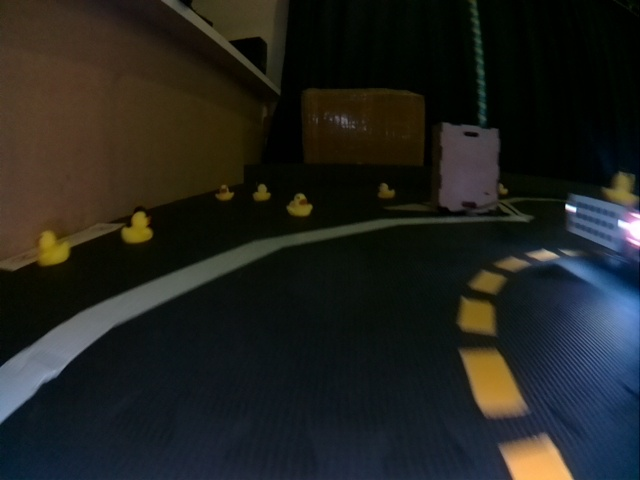Duckie: (36, 231, 70, 266), (606, 173, 636, 206), (122, 213, 152, 240), (288, 193, 312, 216), (253, 184, 271, 201), (216, 185, 234, 201), (377, 183, 395, 199), (499, 183, 508, 194)
Duckiebot: (566, 193, 637, 263)
